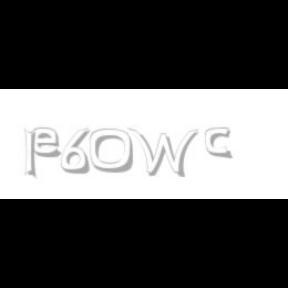6: (61, 128, 90, 176)
O: (90, 128, 134, 174)
W: (127, 128, 199, 178)
c: (204, 128, 234, 160)
e: (33, 128, 66, 158)
l: (24, 128, 40, 180)
